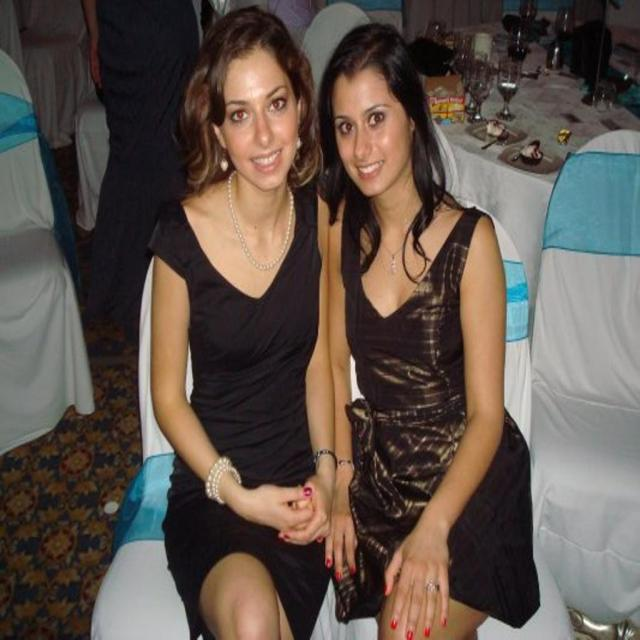Face: (217, 46, 309, 204), (329, 64, 412, 201)
